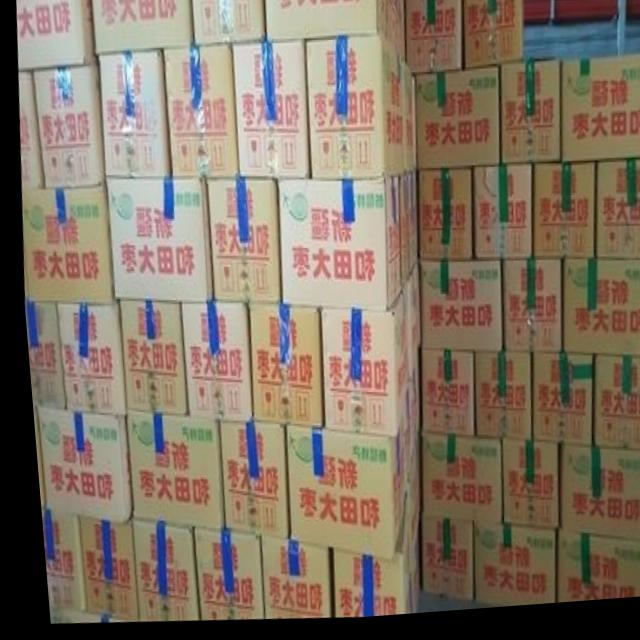box: (276, 181, 397, 314), (278, 430, 396, 566), (305, 40, 402, 184), (102, 177, 206, 304), (118, 412, 216, 533), (316, 299, 400, 440), (29, 406, 123, 525), (232, 45, 307, 184), (20, 187, 108, 303), (162, 46, 235, 182), (264, 0, 405, 66), (241, 308, 316, 432), (96, 53, 169, 178), (550, 452, 640, 552), (412, 72, 496, 177), (205, 180, 275, 306), (32, 66, 102, 190), (176, 302, 246, 424), (559, 66, 640, 170), (324, 510, 399, 621), (556, 268, 640, 365), (212, 424, 280, 543), (52, 301, 120, 416), (114, 303, 181, 416), (463, 527, 549, 614), (415, 267, 496, 358), (414, 438, 492, 527), (123, 518, 188, 623), (547, 535, 636, 611), (183, 529, 253, 623), (68, 517, 128, 621), (529, 170, 592, 268), (499, 69, 558, 172), (524, 358, 585, 456), (250, 537, 319, 622), (468, 174, 529, 269), (91, 0, 193, 55), (493, 444, 551, 537), (17, 0, 94, 70), (585, 362, 640, 459), (497, 268, 556, 358), (467, 358, 524, 450), (414, 177, 468, 269), (592, 169, 640, 269), (415, 352, 467, 444), (410, 519, 463, 606), (464, 0, 523, 76), (405, 0, 459, 81), (33, 512, 76, 611), (21, 301, 57, 408), (191, 0, 267, 48), (394, 365, 413, 513), (18, 70, 41, 190), (395, 179, 415, 287), (399, 267, 416, 393), (397, 470, 411, 619), (399, 66, 415, 177), (39, 607, 128, 624), (26, 406, 37, 510)
